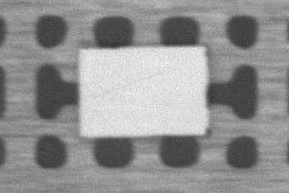DIE_CRACK: (141, 47, 247, 65)
